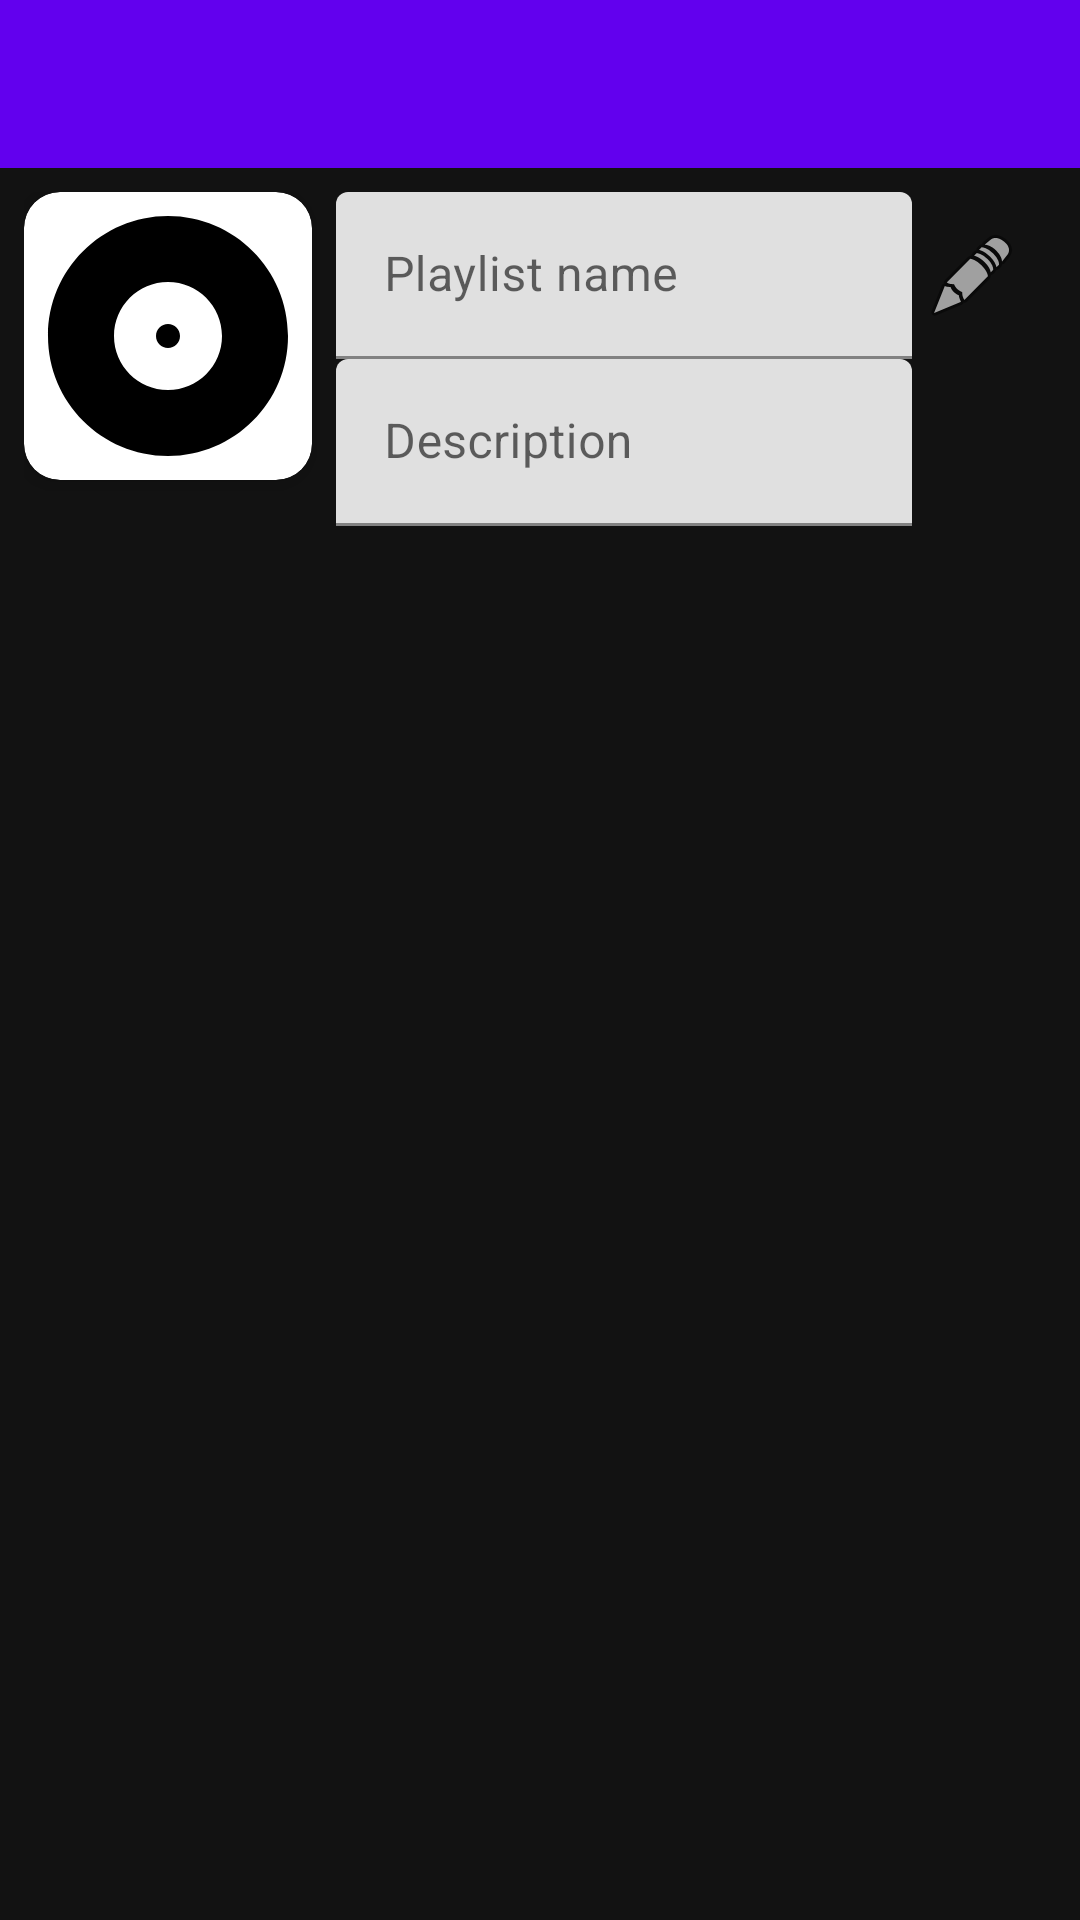

Screen size 1080×1920. Icon name, then its box in pixels as rect(x1, y1, x2, y2):
album: rect(24, 192, 312, 480)
Toggle edit: rect(934, 238, 1009, 313)
